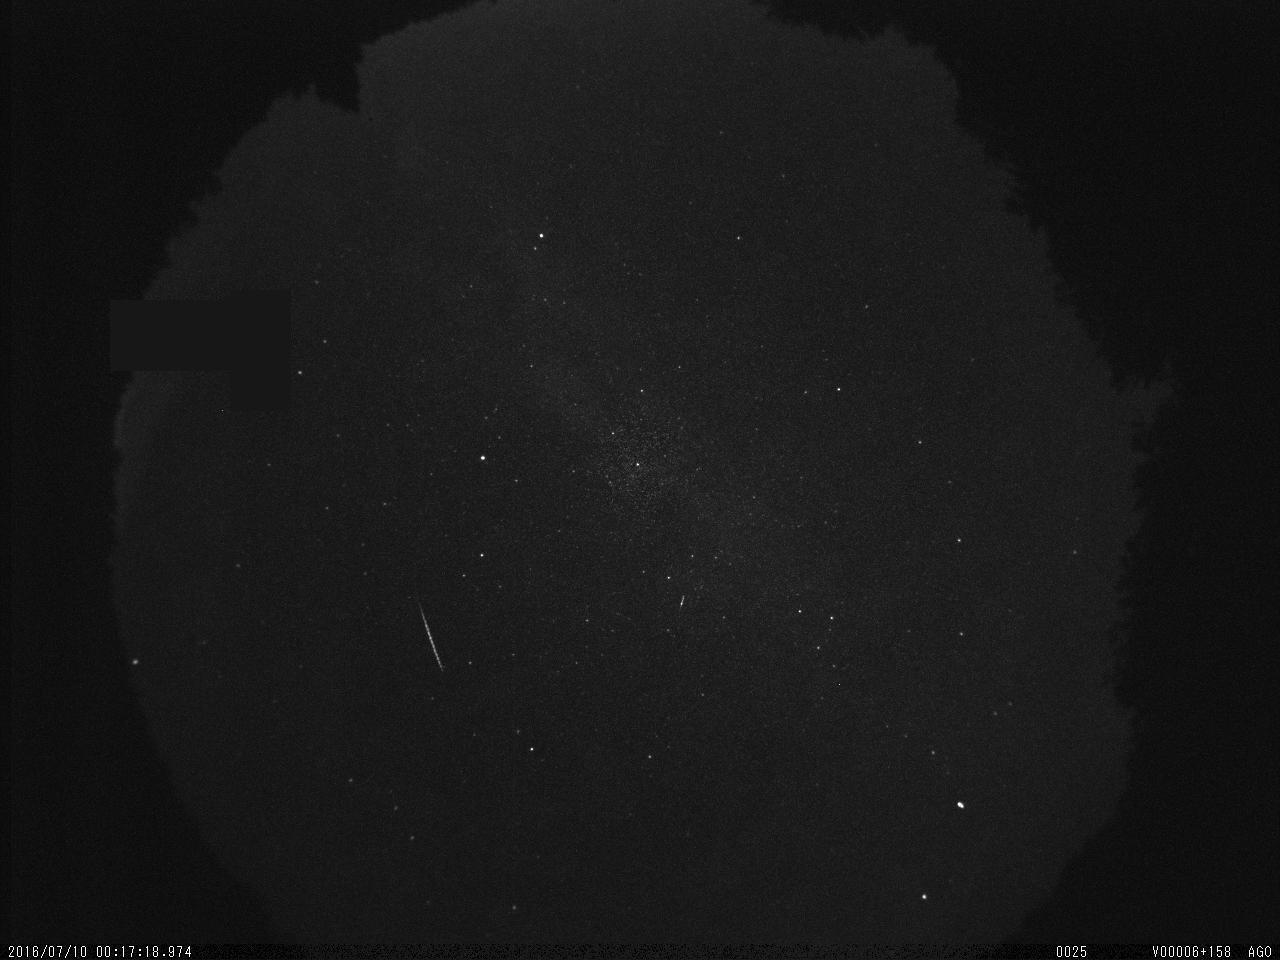meteor: (406, 597, 455, 686)
